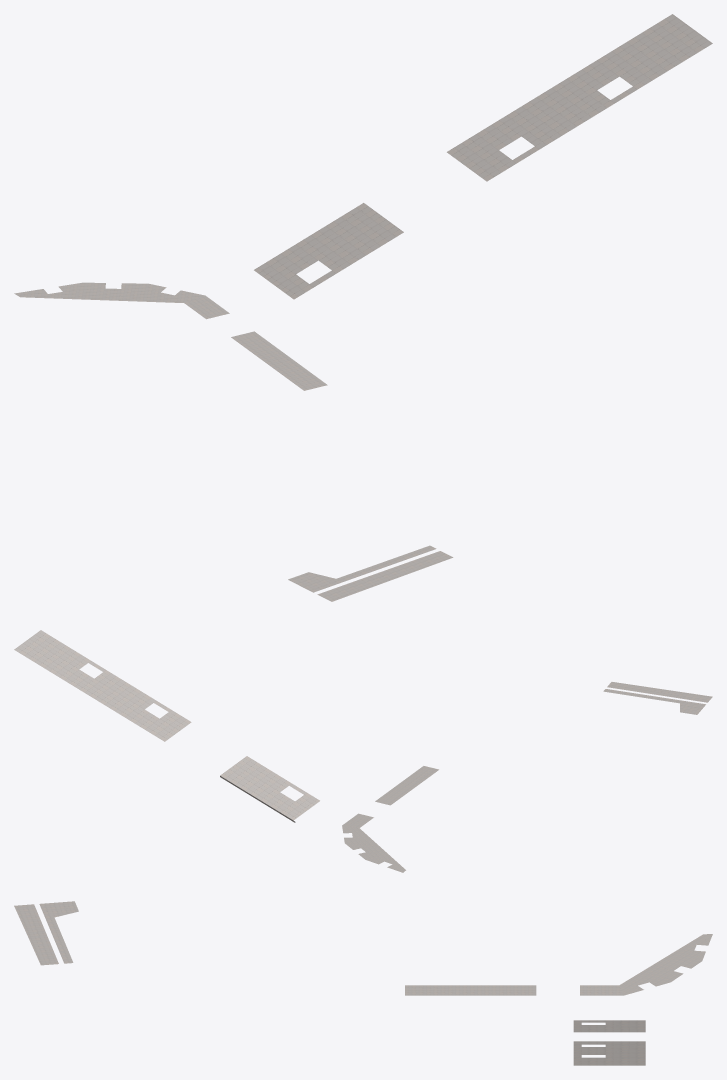
Rendered from kd_stage_135fe0_3_9.glb.
3 renders of one model, top to bottom at view 1: azimuth 30°, elevation 25°; view 2: azimuth 150°, elevation 25°; view 3: azimuth 270°, elevation 25°, orthographic. The views are drawn at different scales.
Parts seen in each view (by area): view 1: kd_stage_135fe0_3_9; view 2: kd_stage_135fe0_3_9; view 3: kd_stage_135fe0_3_9.
Part boxes in pixels (box(x1,y1,x2,y2)): kd_stage_135fe0_3_9: box(14, 14, 712, 601); kd_stage_135fe0_3_9: box(14, 630, 712, 872); kd_stage_135fe0_3_9: box(14, 901, 712, 1065).
Size of the model in its own units: 51.9 by 11.25 by 49.91.
Materials: 1 (1 with a texture image).
